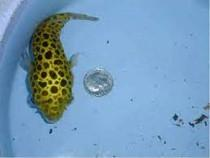Green Spotted Puffer: (7, 13, 107, 123)
